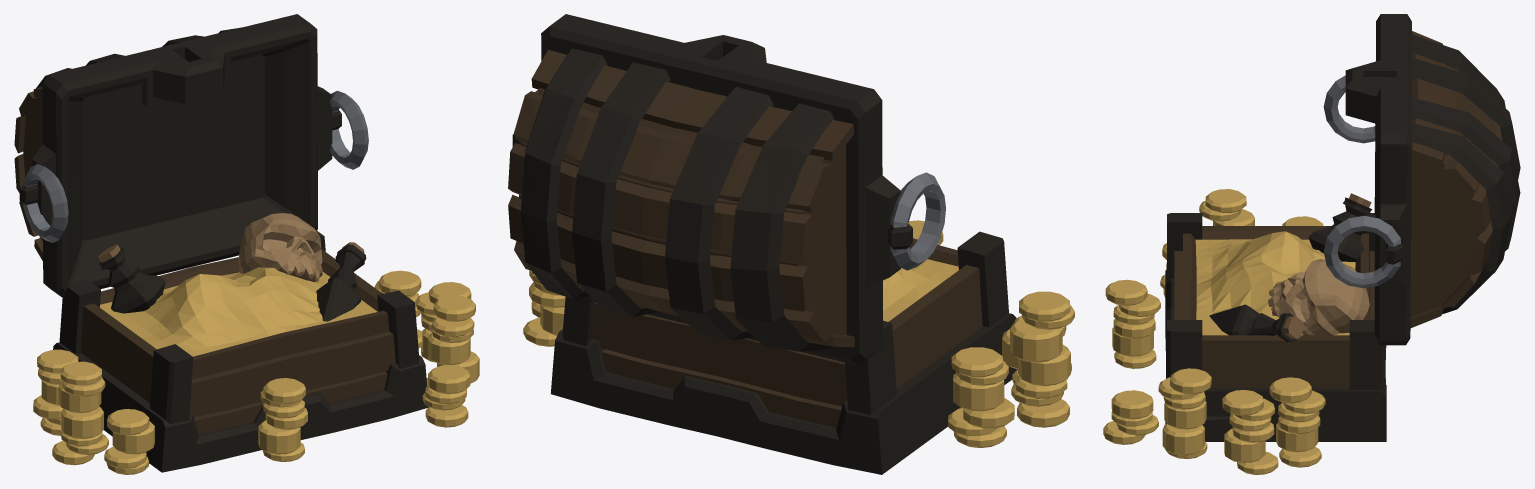
File: cc0-chest-gold.glb
3 views of the same model, side by side, from view 1: azimuth 30°, elevation 25°; view 2: azimuth 150°, elevation 25°; view 3: azimuth 270°, elevation 25° (orthographic). The views are drawn at different scales.
Parts seen in each view (by area): view 1: cc0-chest-gold; view 2: cc0-chest-gold; view 3: cc0-chest-gold.
Part boxes in pixels (left/top/right/bottom): cc0-chest-gold: left=14, top=14, right=479, bottom=474; cc0-chest-gold: left=508, top=14, right=1074, bottom=474; cc0-chest-gold: left=1103, top=14, right=1520, bottom=474.
Size of the model in its own units: 0.9 by 0.6365 by 0.7867.
